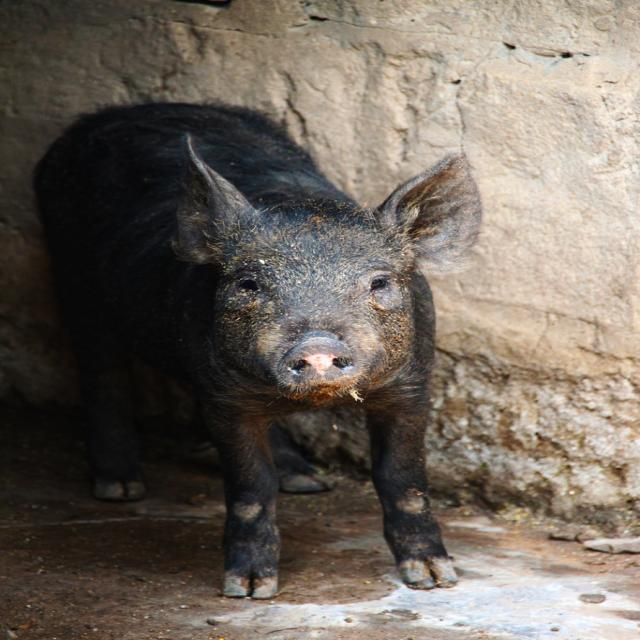Pig: (29, 98, 483, 601)
